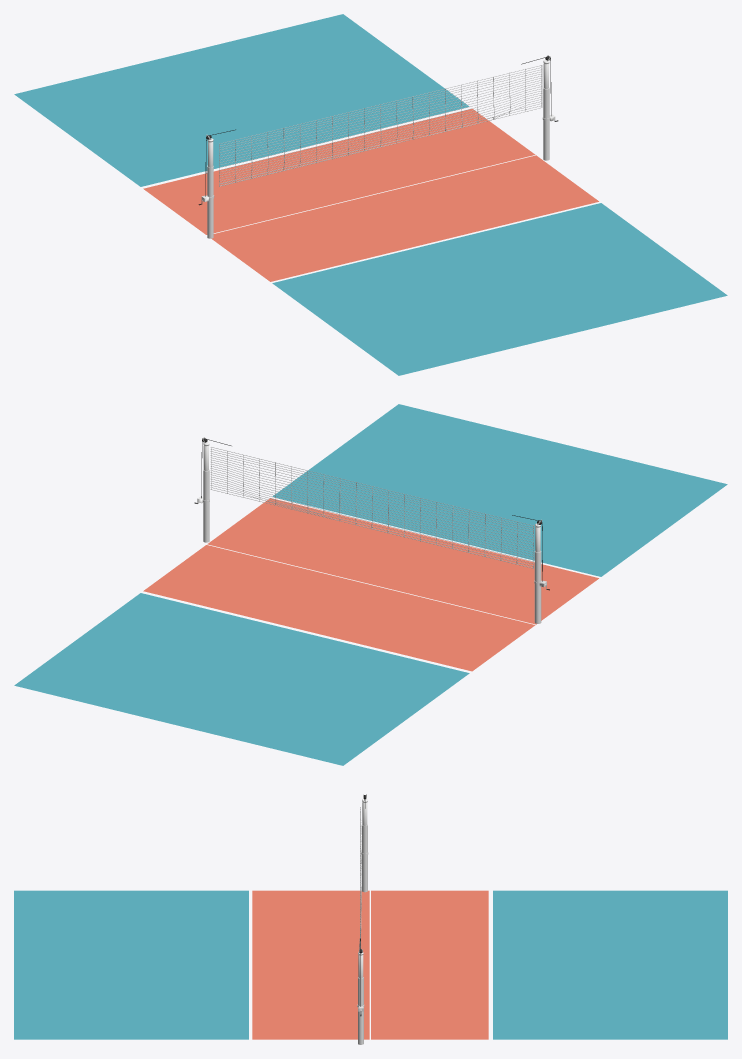
File: asset2.dae
The picture shows the model from 3 angles, top to bottom: view 1: azimuth 30°, elevation 25°; view 2: azimuth 150°, elevation 25°; view 3: azimuth 270°, elevation 25°; orthographic projection. The views are drawn at different scales.
Visible parts, largest first — view 1: Plane.3, Plane.1, Plane.6, Plane.2, Plane.4, pole (×2); view 2: Plane.1, Plane.3, Plane.2, Plane.6, Plane.4, pole (×2); view 3: Plane.1, Plane.3, Plane.2, Plane.6, pole (×2).
Boxes of the visible parts, x1,y1,x2,y2 form: Plane.3: [272, 203, 727, 375]; Plane.1: [14, 14, 469, 186]; Plane.6: [211, 155, 598, 281]; Plane.2: [143, 108, 535, 234]; Plane.4: [219, 65, 542, 186]; pole (×2): [201, 55, 555, 238]; Plane.1: [14, 593, 469, 765]; Plane.3: [272, 404, 727, 576]; Plane.2: [143, 545, 535, 671]; Plane.6: [207, 498, 598, 624]; Plane.4: [210, 447, 533, 568]; pole (×2): [197, 437, 546, 623]; Plane.1: [493, 890, 727, 1039]; Plane.3: [14, 890, 248, 1039]; Plane.2: [371, 890, 488, 1039]; Plane.6: [252, 890, 369, 1039]; pole (×2): [357, 794, 368, 1044].
Size of the model in its own units: 978 by 273 by 1822.
